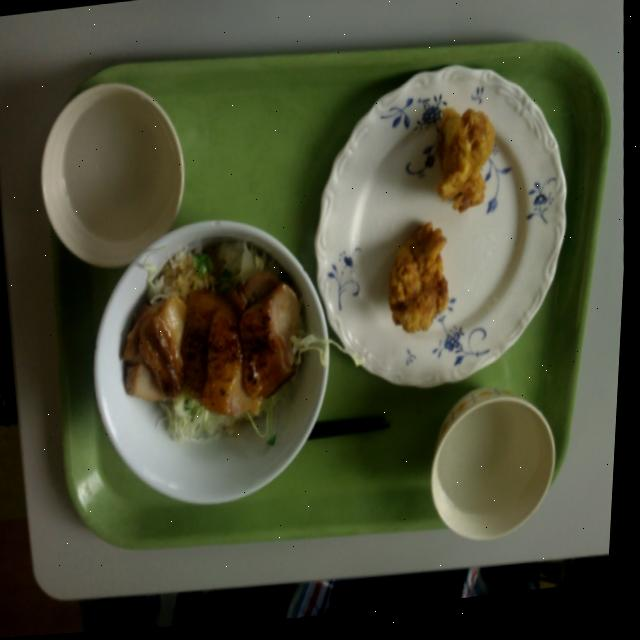鸡肉料理 含炸鸡: (331, 62, 586, 416)
